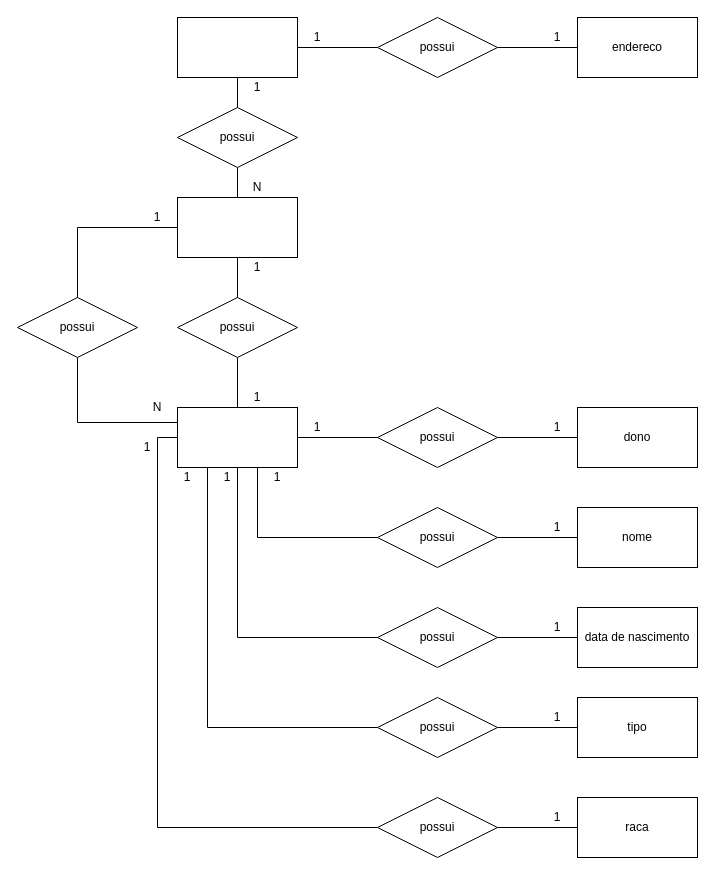
This 715x875 diagram has some shape labels left out. The centre of each missing label's shape, as x and y in pixels:
"clinica" goes at point 237,47.
"pet" goes at point 237,437.
"veterinario" goes at point 237,227.
